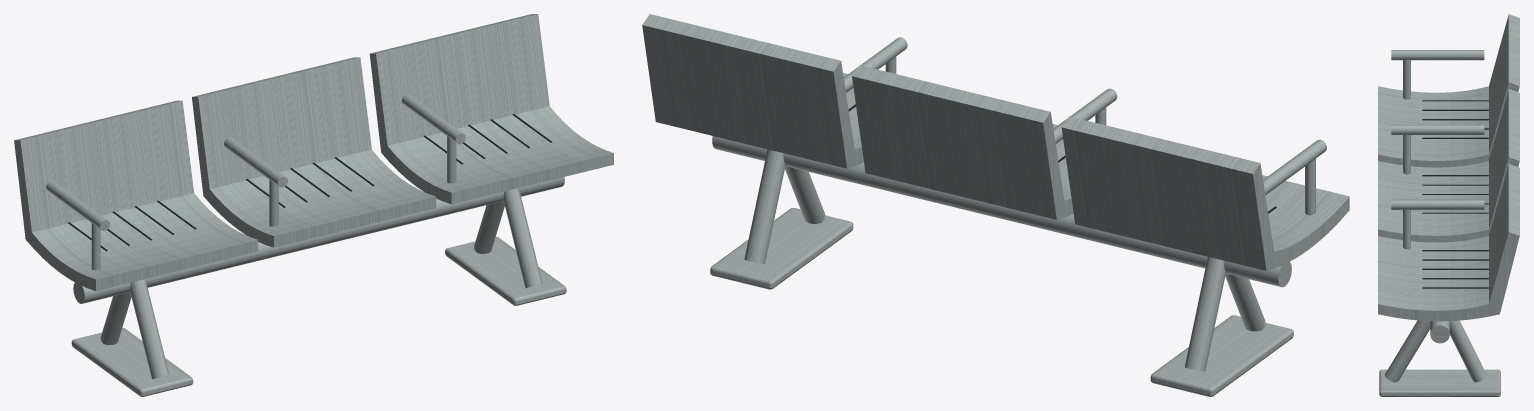
Rendered from detail-bench-metal-1.glb.
The picture shows the model from 3 angles, left to right: view 1: azimuth 30°, elevation 25°; view 2: azimuth 150°, elevation 25°; view 3: azimuth 270°, elevation 25°; orthographic projection. The views are drawn at different scales.
Visible parts, largest first — view 1: curved_seat_back (×3), bolted_foot (×2), support_leg (×4), underseat_beam, arm_rest (×3); view 2: curved_seat_back (×3), bolted_foot (×2), underseat_beam, support_leg (×4), arm_rest (×3); view 3: curved_seat_back (×3), bolted_foot, arm_rest (×3), support_leg (×2), arm_support (×3), underseat_beam.
Boxes of the visible parts, x1=… form: curved_seat_back (×3): x1=14, y1=14, x2=613, y2=290; bolted_foot (×2): x1=71, y1=236, x2=566, y2=396; support_leg (×4): x1=100, y1=188, x2=542, y2=379; underseat_beam: x1=73, y1=177, x2=564, y2=303; arm_rest (×3): x1=46, y1=94, x2=465, y2=230; curved_seat_back (×3): x1=642, y1=14, x2=1349, y2=270; bolted_foot (×2): x1=710, y1=208, x2=1293, y2=396; underseat_beam: x1=712, y1=136, x2=1291, y2=287; support_leg (×4): x1=744, y1=149, x2=1265, y2=371; arm_rest (×3): x1=844, y1=37, x2=1326, y2=195; curved_seat_back (×3): x1=1378, y1=14, x2=1519, y2=321; bolted_foot: x1=1379, y1=369, x2=1500, y2=396; arm_rest (×3): x1=1391, y1=50, x2=1484, y2=209; support_leg (×2): x1=1384, y1=320, x2=1486, y2=382; arm_support (×3): x1=1403, y1=59, x2=1410, y2=249; underseat_beam: x1=1430, y1=321, x2=1449, y2=343.
Bounding box in the file's own units: 2.33 × 0.9225 × 0.64.
2 materials, 2 textured.
